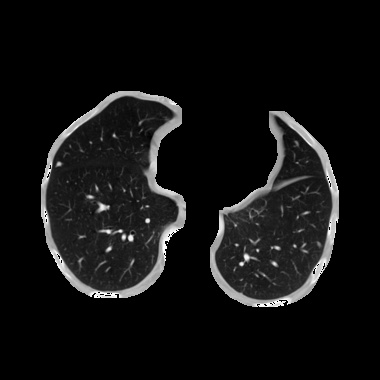PN: (55, 159, 63, 167)
